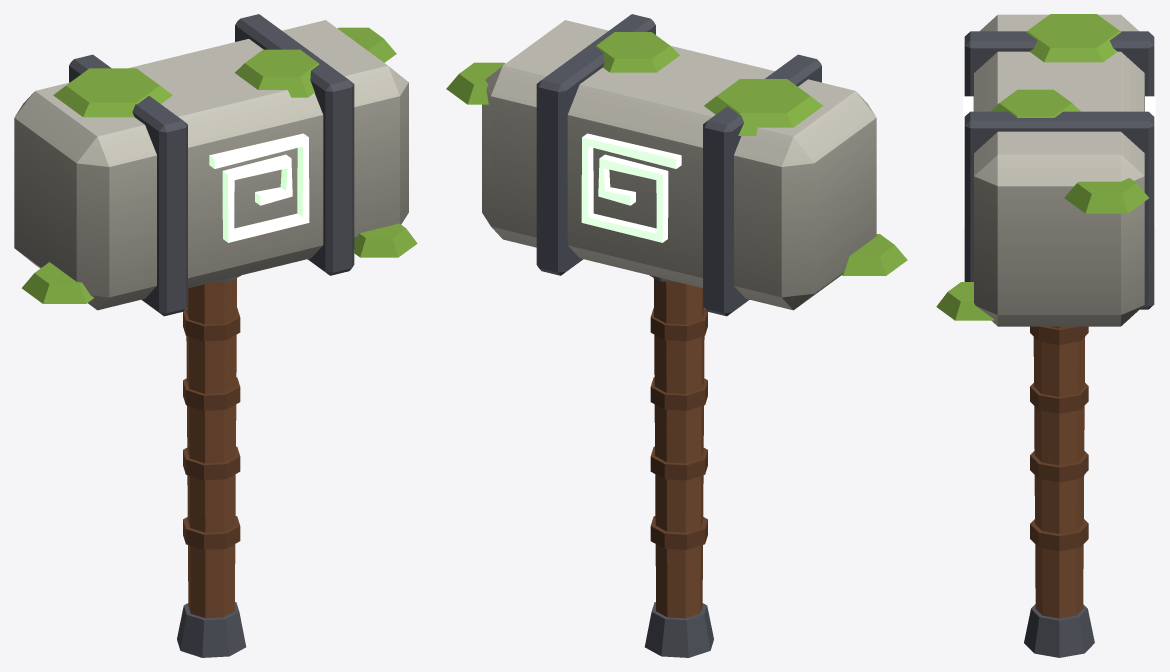
Rendered from wardenHammer.glb.
3 views of the same model, side by side, from view 1: azimuth 30°, elevation 25°; view 2: azimuth 150°, elevation 25°; view 3: azimuth 270°, elevation 25° (orthographic).
Visible parts, largest first — view 1: wardenHammer; view 2: wardenHammer; view 3: wardenHammer.
Part boxes in pixels (x1,y1,x2,y2): wardenHammer: (14,14,417,657); wardenHammer: (446,14,907,657); wardenHammer: (936,14,1155,657).
Bounding box in the file's own units: 0.9559 × 1.32 × 0.4633.
1 material, 1 textured.
